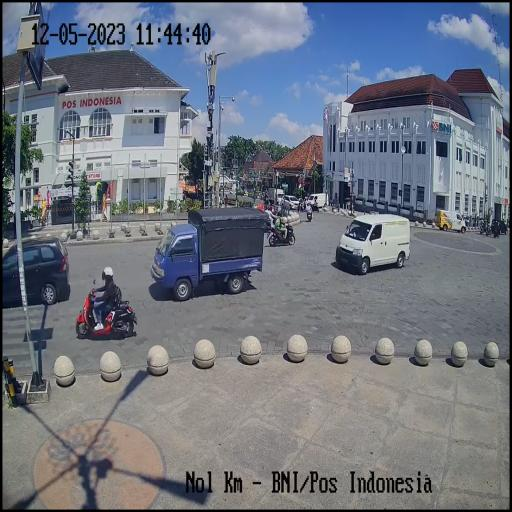mobil: (149, 207, 266, 303), (3, 234, 70, 310), (336, 212, 412, 276)
motor: (75, 278, 138, 340), (266, 219, 296, 249)
